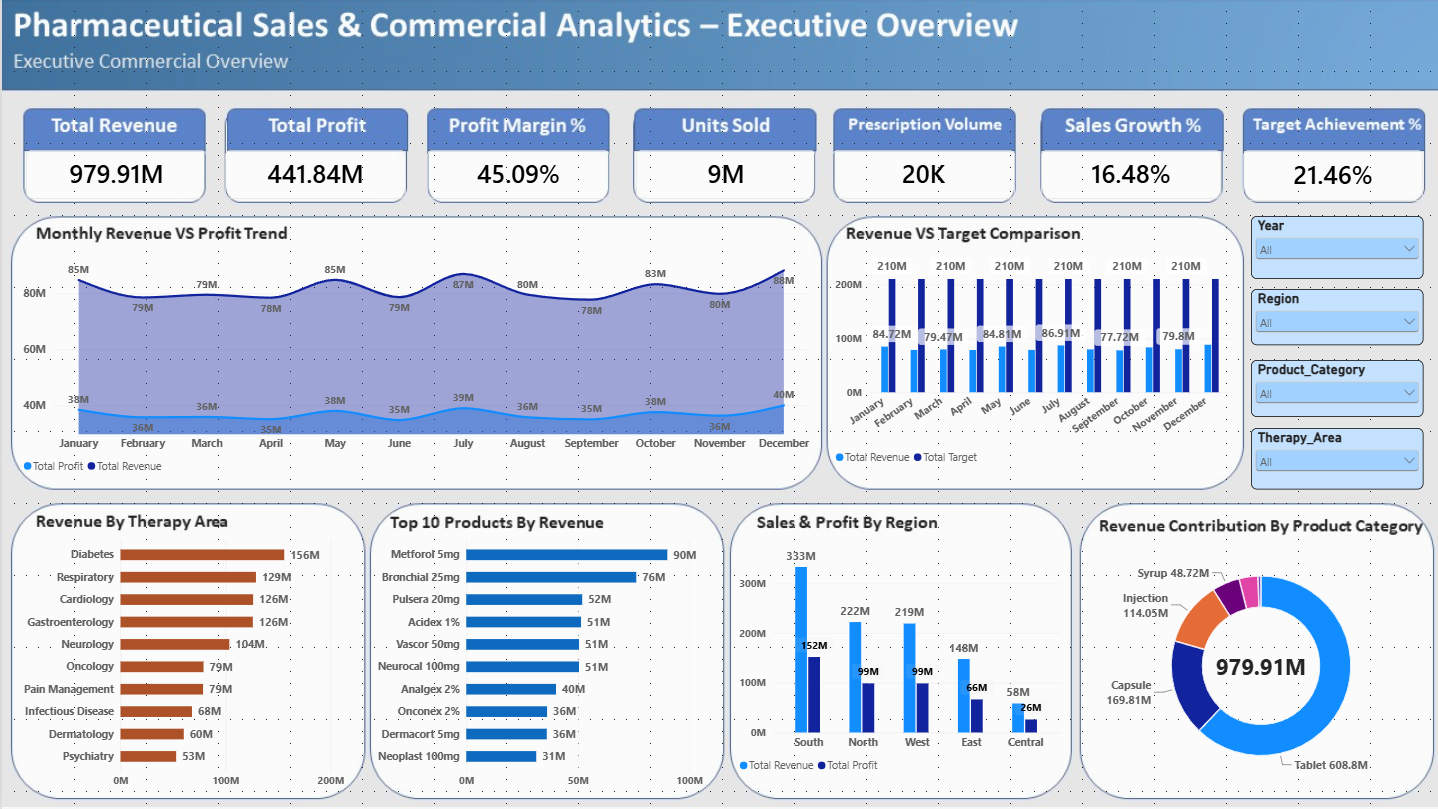

The dashboard page shown, as its layout file describes it:
{"tool":"powerbi","page":{"name":"Executive Commercial Overview","canvas":[1920,1080],"ordinal":0},"visuals":[{"type":"card","fields":{"Values":["Sum(Sales.Revenue)"]},"box":[32,201.3,241.3,65.3],"z":0},{"type":"card","fields":{"Values":["Sum(Sales.Profit)"]},"box":[297.3,201.3,241.3,65.3],"z":1000},{"type":"card","fields":{"Values":["Sales.Profit Margin %"]},"box":[566.7,201.3,244,65.3],"z":2000},{"type":"card","fields":{"Values":["Sales.Total Unit Sold"]},"box":[845.3,201.3,240,65.3],"z":3000},{"type":"card","fields":{"Values":["Prescriptions.Prescription Volume"]},"box":[1106.7,201.3,244,65.3],"z":4000},{"type":"card","fields":{"Values":["Sales.Sales Growth %"]},"box":[1385.3,201.3,240,65.3],"z":5000},{"type":"card","fields":{"Values":["Sales.Target Achievement %"]},"box":[1654.7,201.3,240,68],"z":6000},{"type":"areaChart","fields":{"Category":["Date.Date.Variation.Date Hierarchy.Month"],"Y":["Sales.Total Profit","Sales.Total Revenue"]},"box":[12,332,1082.7,321.3],"z":7000},{"type":"lineClusteredColumnComboChart","fields":{"Category":["Date.Date.Variation.Date Hierarchy.Month"],"Y":["Sales.Total Revenue","Sales.Total Target"]},"box":[1094.7,321.3,560,320],"z":8000},{"type":"clusteredBarChart","fields":{"Category":["Products.Therapy_Area"],"Y":["Sales.Total Revenue"]},"box":[12,700,460,370.7],"z":9000},{"type":"clusteredBarChart","fields":{"Category":["Products.Product_Name"],"Y":["Sales.Total Revenue"]},"box":[484,700,476,370.7],"z":10000},{"type":"clusteredColumnChart","fields":{"Category":["Distributors.Region"],"Y":["Sales.Total Revenue","Sales.Total Profit"]},"box":[966.7,709.3,461.3,342.7],"z":11000},{"type":"donutChart","fields":{"Category":["Products.Product_Category"],"Y":["Sales.Total Revenue"]},"box":[1437.3,709.3,482.7,361.3],"z":12000},{"type":"slicer","fields":{"Values":["Date.Date.Variation.Date Hierarchy.Year"]},"box":[1665.5,289.5,230.1,83.8],"z":13000},{"type":"slicer","fields":{"Values":["Distributors.Region"]},"box":[1665.5,387,230.1,74.7],"z":14000},{"type":"slicer","fields":{"Values":["Products.Product_Category"]},"box":[1665.5,481.5,230.1,76.2],"z":15000},{"type":"slicer","fields":{"Values":["Products.Therapy_Area"]},"box":[1665.5,571.4,230.1,82.3],"z":16000}]}

Visuals, with their boxes in screenshot pixels (x1, y1, x2, y2), scaled from the page's 1920x1080 canvas onto the 1438x809 screenshot:
card - Sum(Sales.Revenue): box(24, 151, 205, 200)
card - Sum(Sales.Profit): box(223, 151, 403, 200)
card - Sales.Profit Margin %: box(424, 151, 607, 200)
card - Sales.Total Unit Sold: box(633, 151, 813, 200)
card - Prescriptions.Prescription Volume: box(829, 151, 1012, 200)
card - Sales.Sales Growth %: box(1038, 151, 1217, 200)
card - Sales.Target Achievement %: box(1239, 151, 1419, 202)
areaChart - Date.Date.Variation.Date Hierarchy.Month x Sales.Total Profit: box(9, 249, 820, 489)
lineClusteredColumnComboChart - Date.Date.Variation.Date Hierarchy.Month x Sales.Total Revenue: box(820, 241, 1239, 480)
clusteredBarChart - Products.Therapy_Area x Sales.Total Revenue: box(9, 524, 354, 802)
clusteredBarChart - Products.Product_Name x Sales.Total Revenue: box(362, 524, 719, 802)
clusteredColumnChart - Distributors.Region x Sales.Total Revenue: box(724, 531, 1070, 788)
donutChart - Products.Product_Category x Sales.Total Revenue: box(1076, 531, 1437, 802)
slicer - Date.Date.Variation.Date Hierarchy.Year: box(1247, 217, 1420, 280)
slicer - Distributors.Region: box(1247, 290, 1420, 346)
slicer - Products.Product_Category: box(1247, 361, 1420, 418)
slicer - Products.Therapy_Area: box(1247, 428, 1420, 490)
